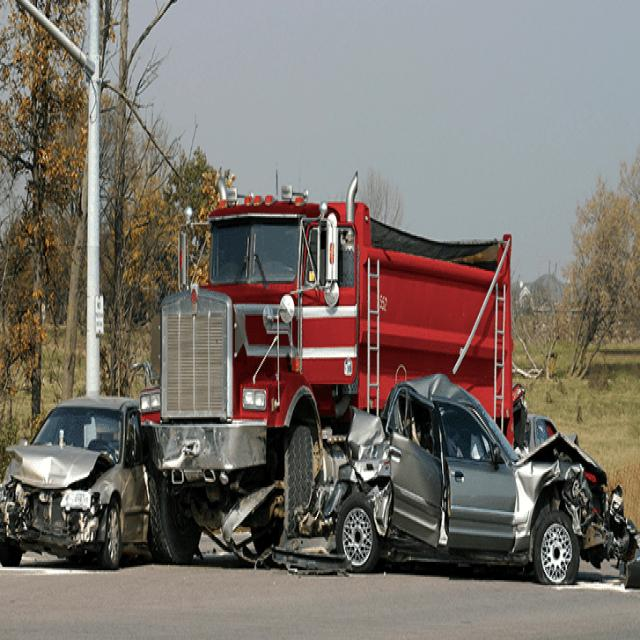Accident: (0, 166, 640, 591)
